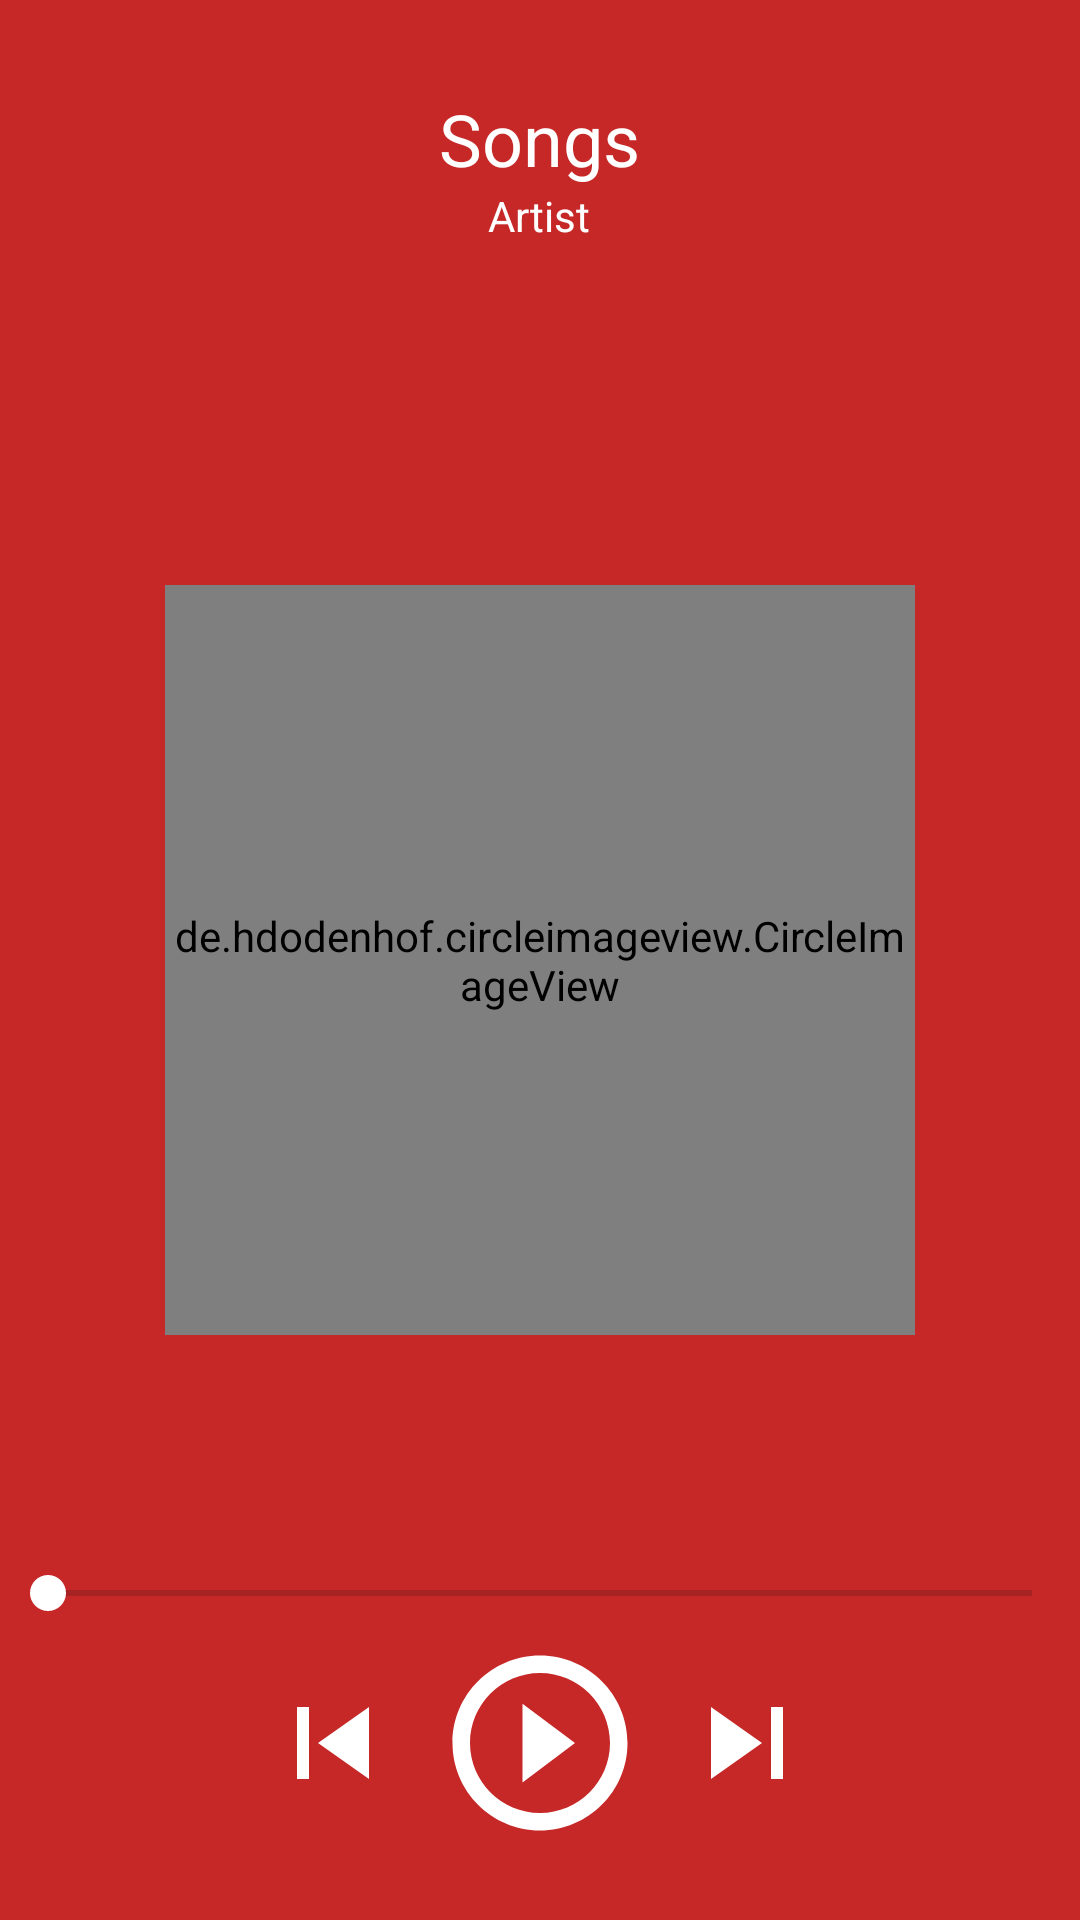

Screen size 1080px x 1920px. Icon name, then its center in pixels as (x,y):
next: (747,1743)
play: (540,1743)
previous: (333,1743)
